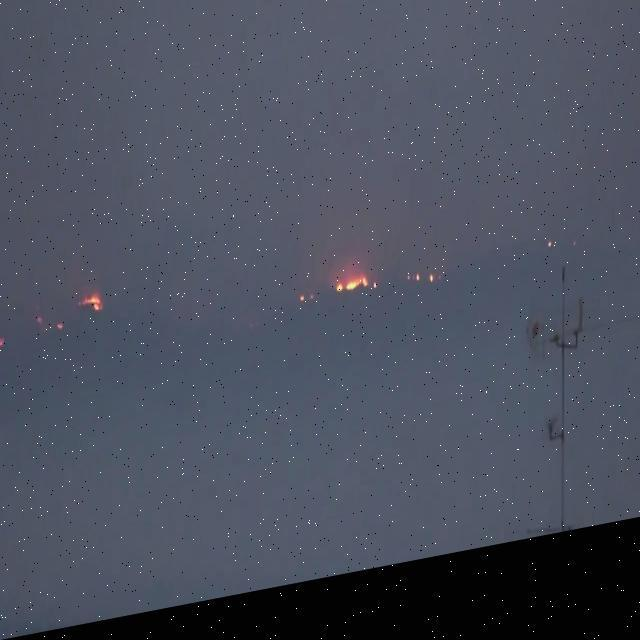Fire: (334, 285, 376, 312), (79, 295, 104, 321)
